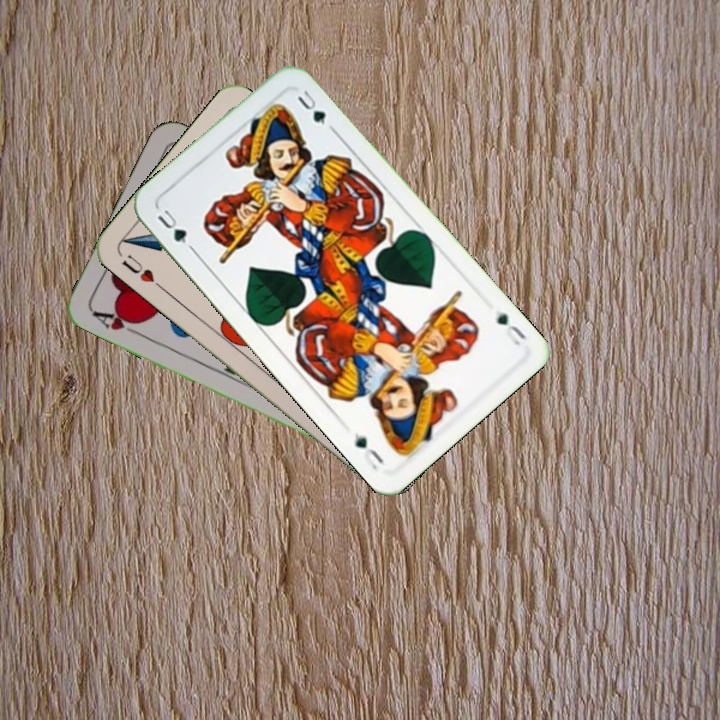GU: (490, 305, 530, 348), (153, 205, 191, 246)
HA: (88, 306, 144, 339)
HU: (118, 250, 166, 292)
